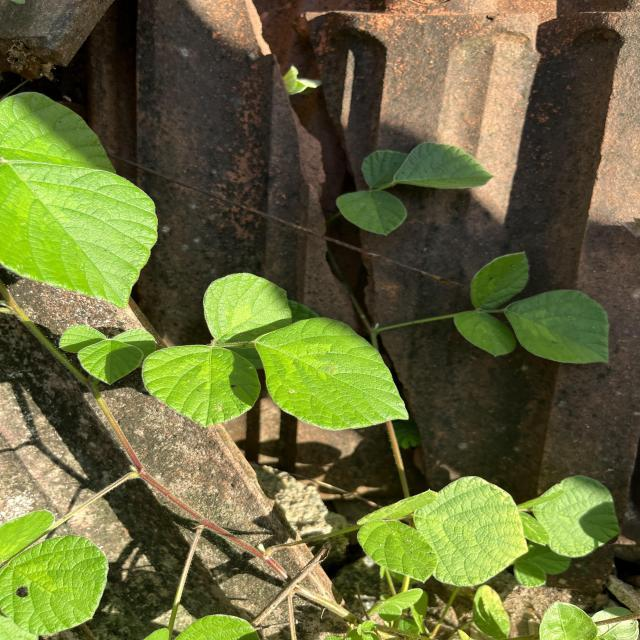Pseudarthria viscida: (140, 270, 412, 432), (452, 250, 612, 366), (334, 140, 495, 238), (58, 324, 158, 386)
